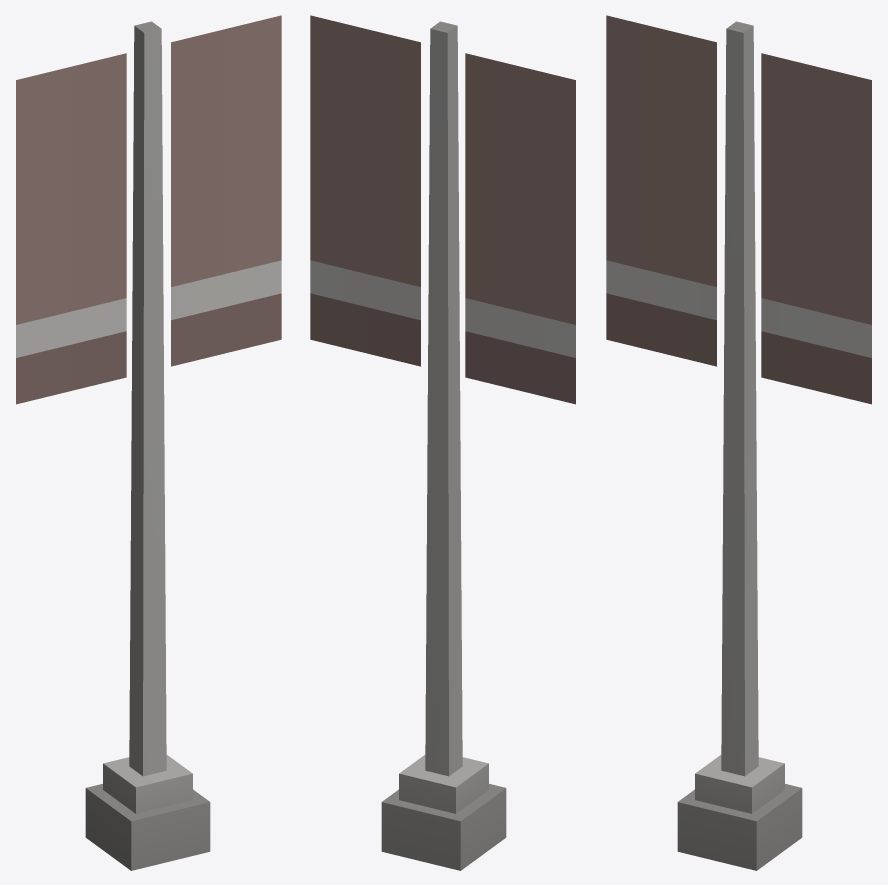
Rendered from banner.lod2.glb.
The picture shows the model from 3 angles, left to right: view 1: azimuth 30°, elevation 25°; view 2: azimuth 150°, elevation 25°; view 3: azimuth 330°, elevation 25°; orthographic projection.
Size of the model in its own units: 1.68 by 4.94 by 0.4999.
